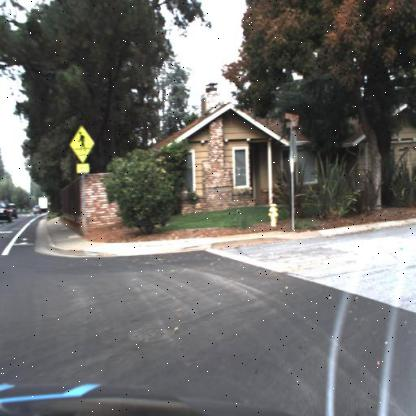car: (0, 201, 12, 222), (5, 203, 18, 219), (33, 206, 41, 215)
truck: (38, 197, 48, 213)
